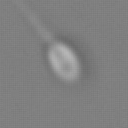normal: (7, 1, 51, 42)
